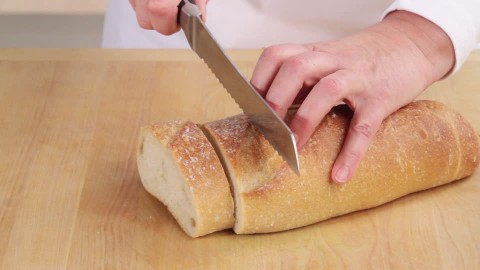slice of bread: (131, 123, 235, 238)
